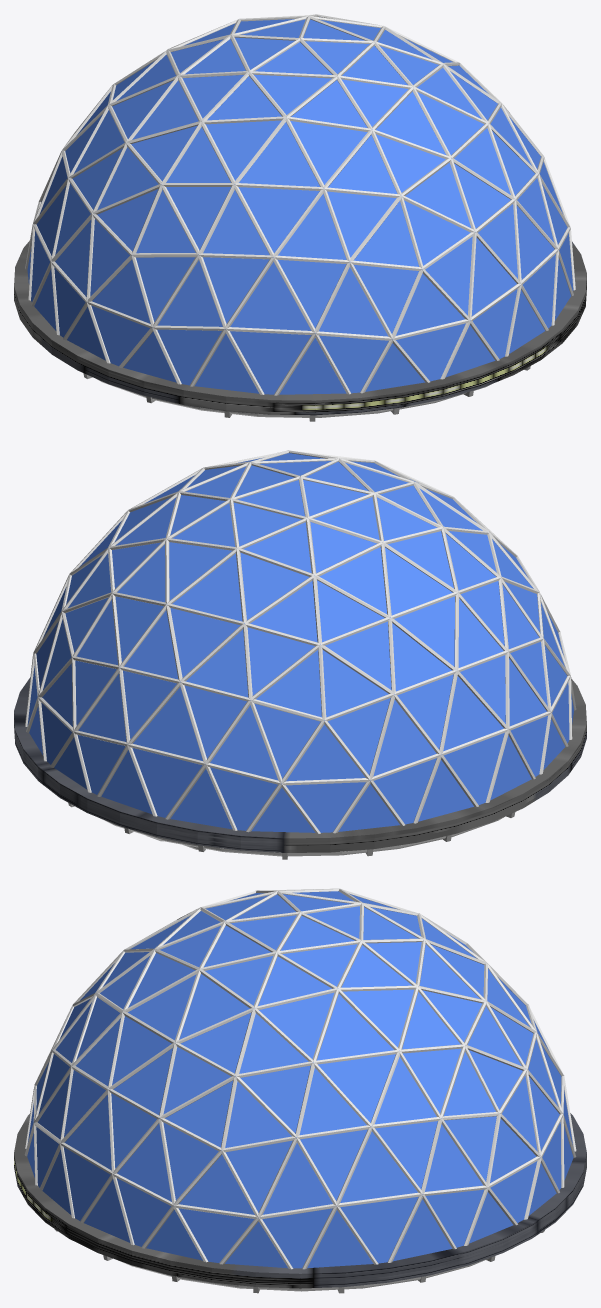
The model's file is Biodome.obj.
The picture shows the model from 3 angles, top to bottom: view 1: azimuth 30°, elevation 25°; view 2: azimuth 150°, elevation 25°; view 3: azimuth 270°, elevation 25°; orthographic projection.
Parts seen in each view (by area): view 1: blueShade, silver, spanel3; view 2: blueShade, silver, spanel3; view 3: blueShade, silver, spanel3.
Boxes of the visible parts, left/top/right/bottom form: blueShade: left=27, top=17, right=573, bottom=394; silver: left=25, top=14, right=575, bottom=417; spanel3: left=14, top=240, right=586, bottom=415; blueShade: left=27, top=453, right=573, bottom=832; silver: left=25, top=450, right=576, bottom=856; spanel3: left=14, top=677, right=586, bottom=852; blueShade: left=27, top=891, right=573, bottom=1268; silver: left=24, top=888, right=576, bottom=1291; spanel3: left=14, top=1113, right=586, bottom=1288.
Size of the model in its own units: 248 by 142 by 248.
